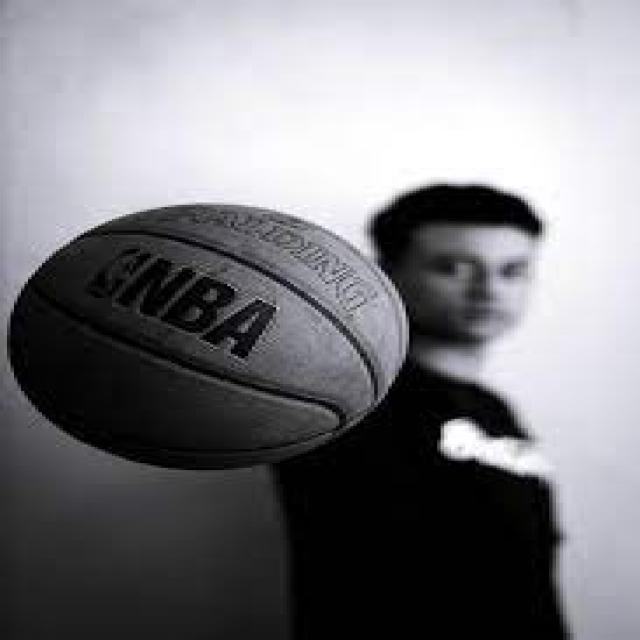basketball: (4, 200, 409, 470)
